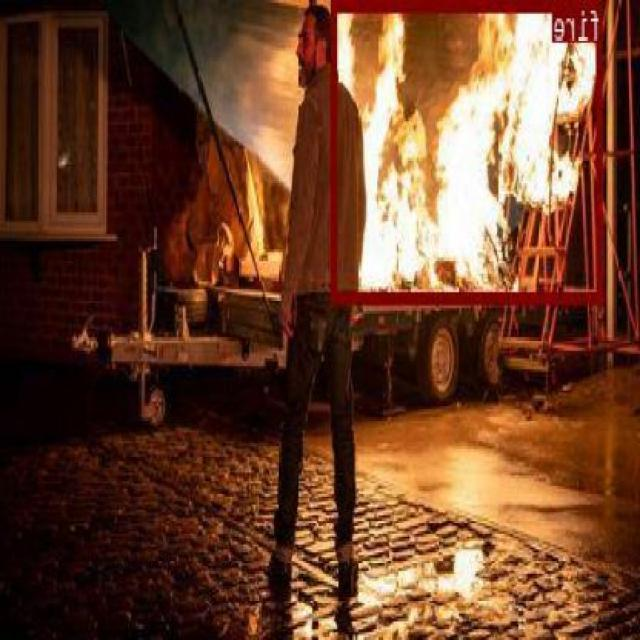fire: (333, 0, 604, 300)
